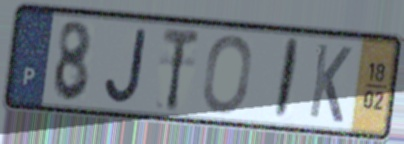8: (53, 19, 95, 105)
I: (271, 36, 303, 123)
J: (102, 27, 150, 107)
K: (306, 40, 355, 127)
O: (199, 32, 255, 117)
T: (160, 25, 202, 114)
